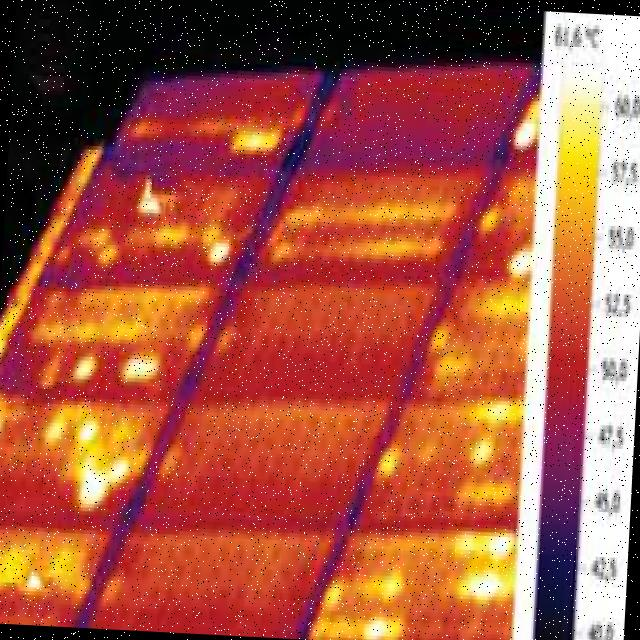Hotspot: (282, 192, 458, 238), (0, 521, 90, 594), (75, 282, 213, 324), (302, 225, 443, 264), (64, 444, 135, 518), (449, 526, 514, 606), (36, 399, 105, 450), (320, 573, 402, 613), (461, 282, 534, 324), (308, 610, 404, 640), (454, 475, 516, 514), (76, 313, 152, 344), (75, 223, 124, 271), (226, 120, 284, 160), (128, 170, 178, 216), (462, 393, 524, 430), (97, 402, 142, 450), (367, 432, 405, 488), (115, 344, 165, 386), (25, 312, 85, 346), (506, 96, 540, 154), (148, 218, 192, 257), (154, 433, 186, 483), (262, 225, 296, 271), (20, 557, 60, 596), (69, 346, 103, 388), (433, 346, 472, 382), (504, 237, 534, 281), (202, 228, 234, 268), (184, 312, 210, 360), (474, 199, 508, 234), (214, 318, 240, 362), (129, 438, 152, 486), (464, 435, 498, 467), (424, 324, 453, 351), (0, 388, 8, 437)
